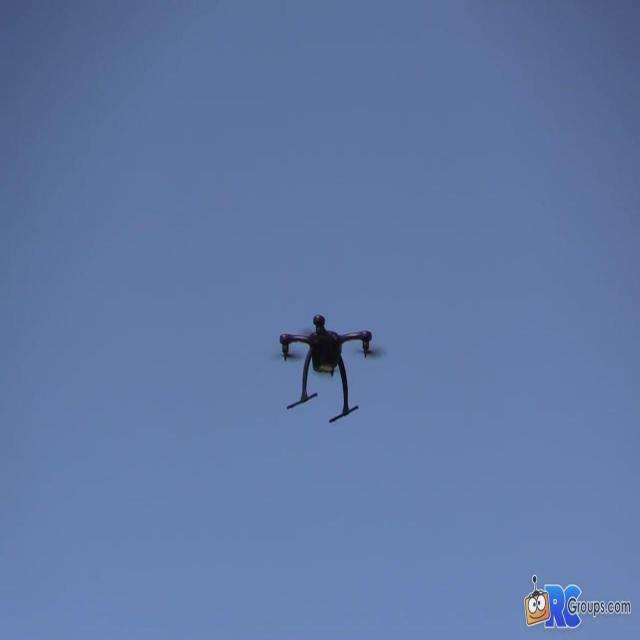UAV: (279, 314, 389, 423)
